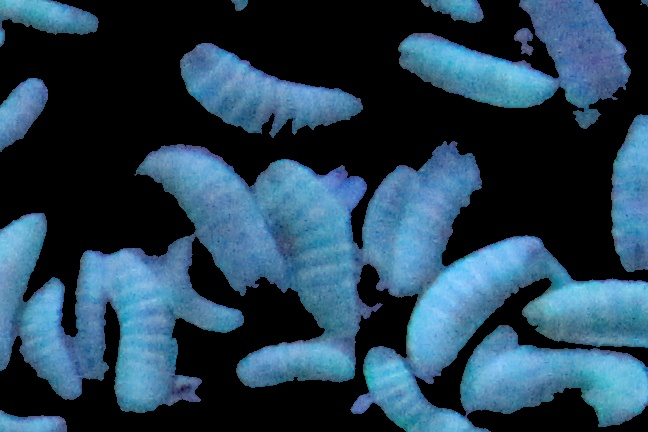larvae: (134, 139, 290, 306), (408, 233, 542, 378), (250, 158, 359, 334), (178, 43, 364, 137), (388, 138, 483, 293), (462, 346, 648, 425), (521, 1, 631, 126), (398, 29, 559, 113), (100, 248, 178, 411), (522, 277, 648, 345), (362, 349, 465, 432), (161, 234, 242, 331), (19, 277, 82, 400), (1, 207, 47, 374), (363, 166, 423, 273), (235, 336, 355, 389), (608, 114, 648, 272), (67, 250, 110, 377), (1, 75, 50, 153), (1, 1, 98, 38), (401, 1, 488, 25)
